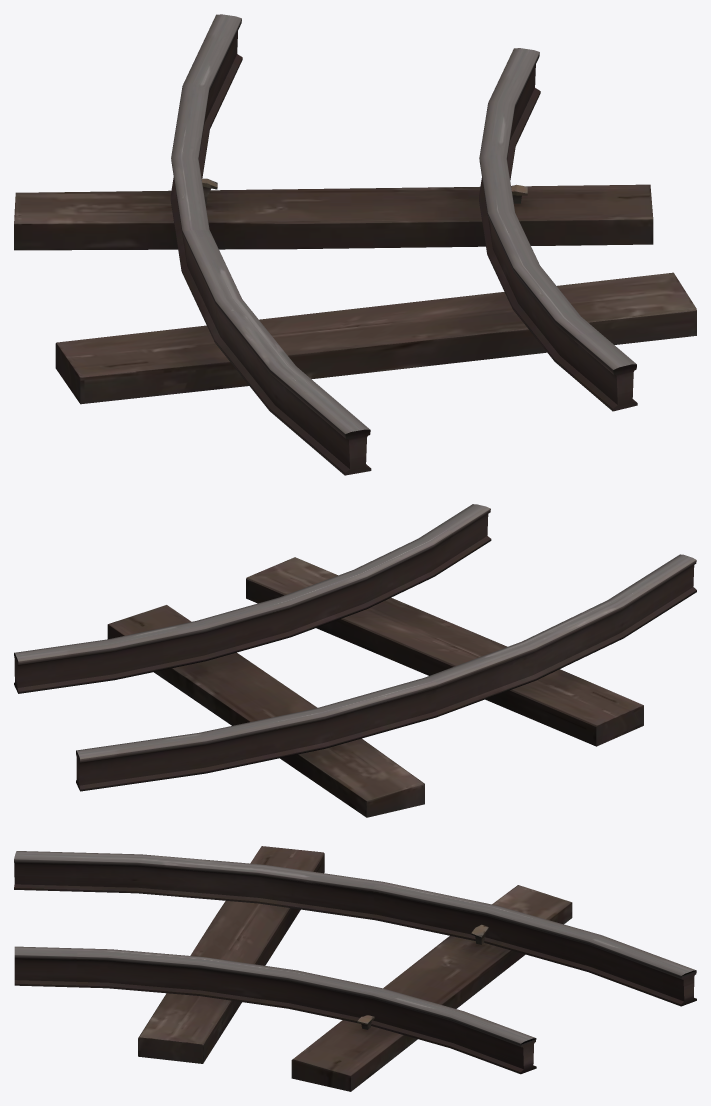
The picture shows the model from 3 angles, top to bottom: view 1: azimuth 30°, elevation 25°; view 2: azimuth 150°, elevation 25°; view 3: azimuth 270°, elevation 25°; orthographic projection. The views are drawn at different scales.
Parts seen in each view (by area): view 1: body0_model0_lod0_mesh0; view 2: body0_model0_lod0_mesh0; view 3: body0_model0_lod0_mesh0.
Part boxes in pixels (<box>): body0_model0_lod0_mesh0: <box>14,14,696,475</box>; body0_model0_lod0_mesh0: <box>14,504,696,817</box>; body0_model0_lod0_mesh0: <box>14,846,696,1091</box>.
Size of the model in its own units: 64.34 by 6.69 by 81.31.
Materials: 1 (1 with a texture image).
